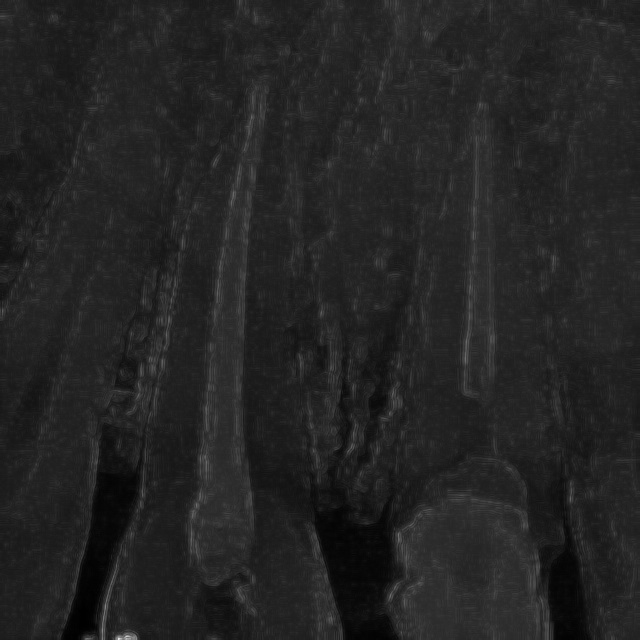Class 0- No endodontic treatment: (115, 39, 356, 610), (382, 65, 582, 546)
